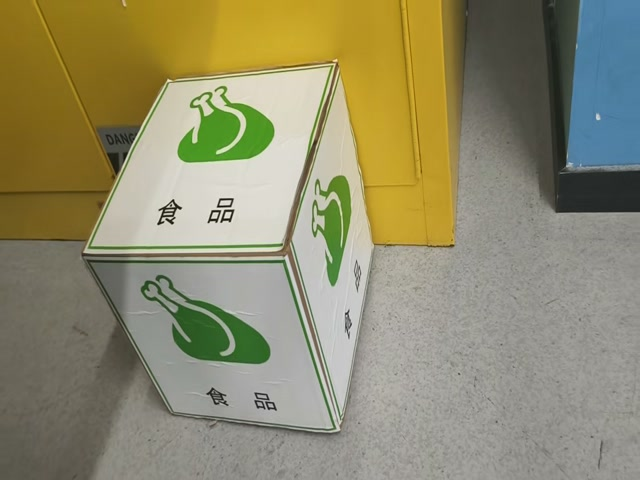Cube_food: (83, 62, 338, 262)
